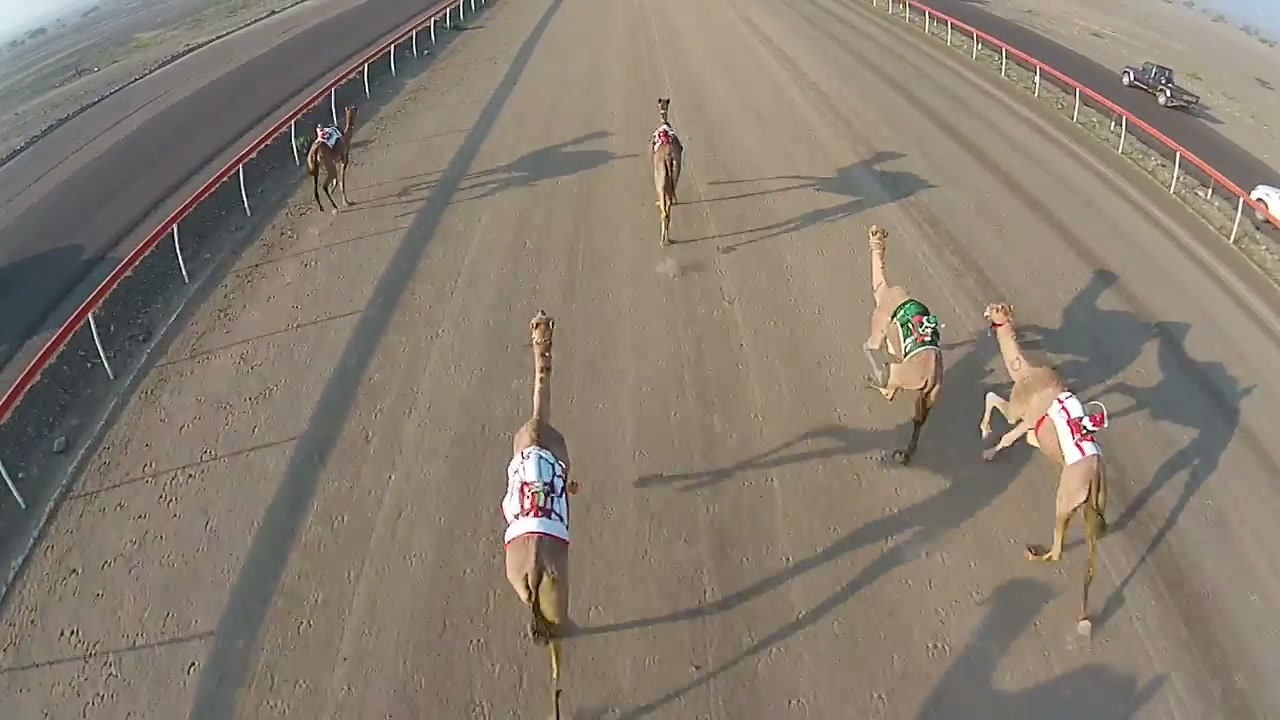animal_foot_print: (31, 232, 328, 702)
